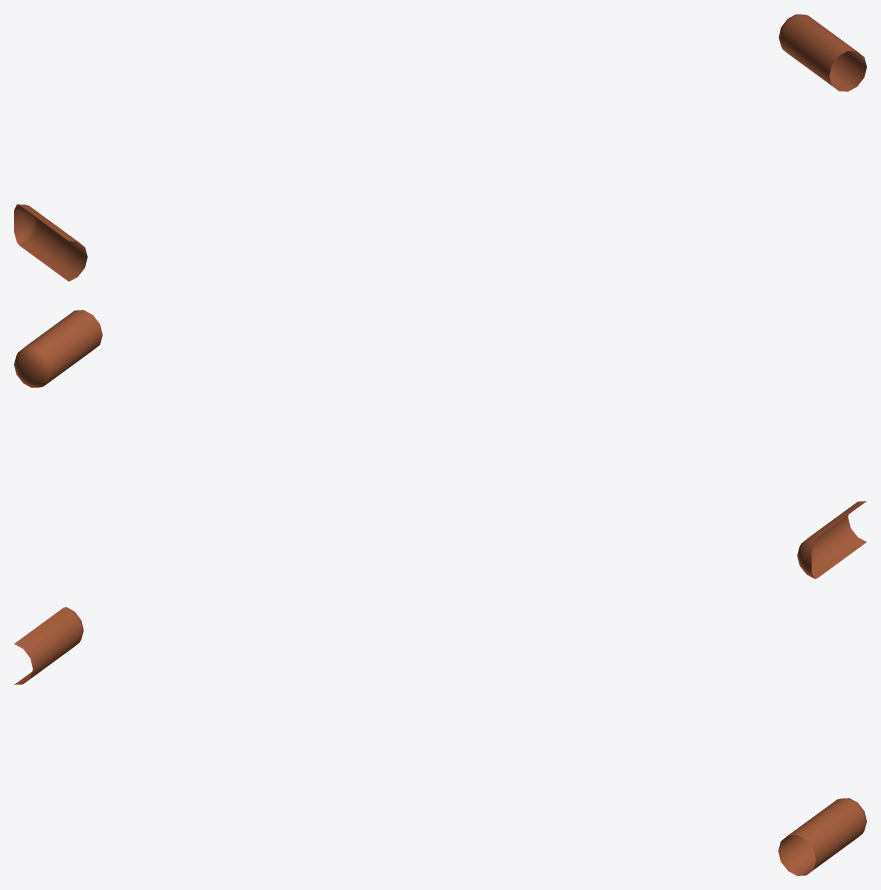
The model's file is SM_tileSol_EndTop_Corner_Right.fbx.
The picture shows the model from 3 angles, top to bottom: view 1: azimuth 30°, elevation 25°; view 2: azimuth 150°, elevation 25°; view 3: azimuth 330°, elevation 25°; orthographic projection.
Parts seen in each view (by area): view 1: SM_tileSol_EndTop_Corner_Right; view 2: SM_tileSol_EndTop_Corner_Right; view 3: SM_tileSol_EndTop_Corner_Right.
Boxes of the visible parts, x1,y1,x2,y2 form: SM_tileSol_EndTop_Corner_Right: (14, 14, 866, 281); SM_tileSol_EndTop_Corner_Right: (14, 310, 866, 578); SM_tileSol_EndTop_Corner_Right: (14, 607, 866, 875).
Size of the model in its own units: 205 by 10 by 24.4.
